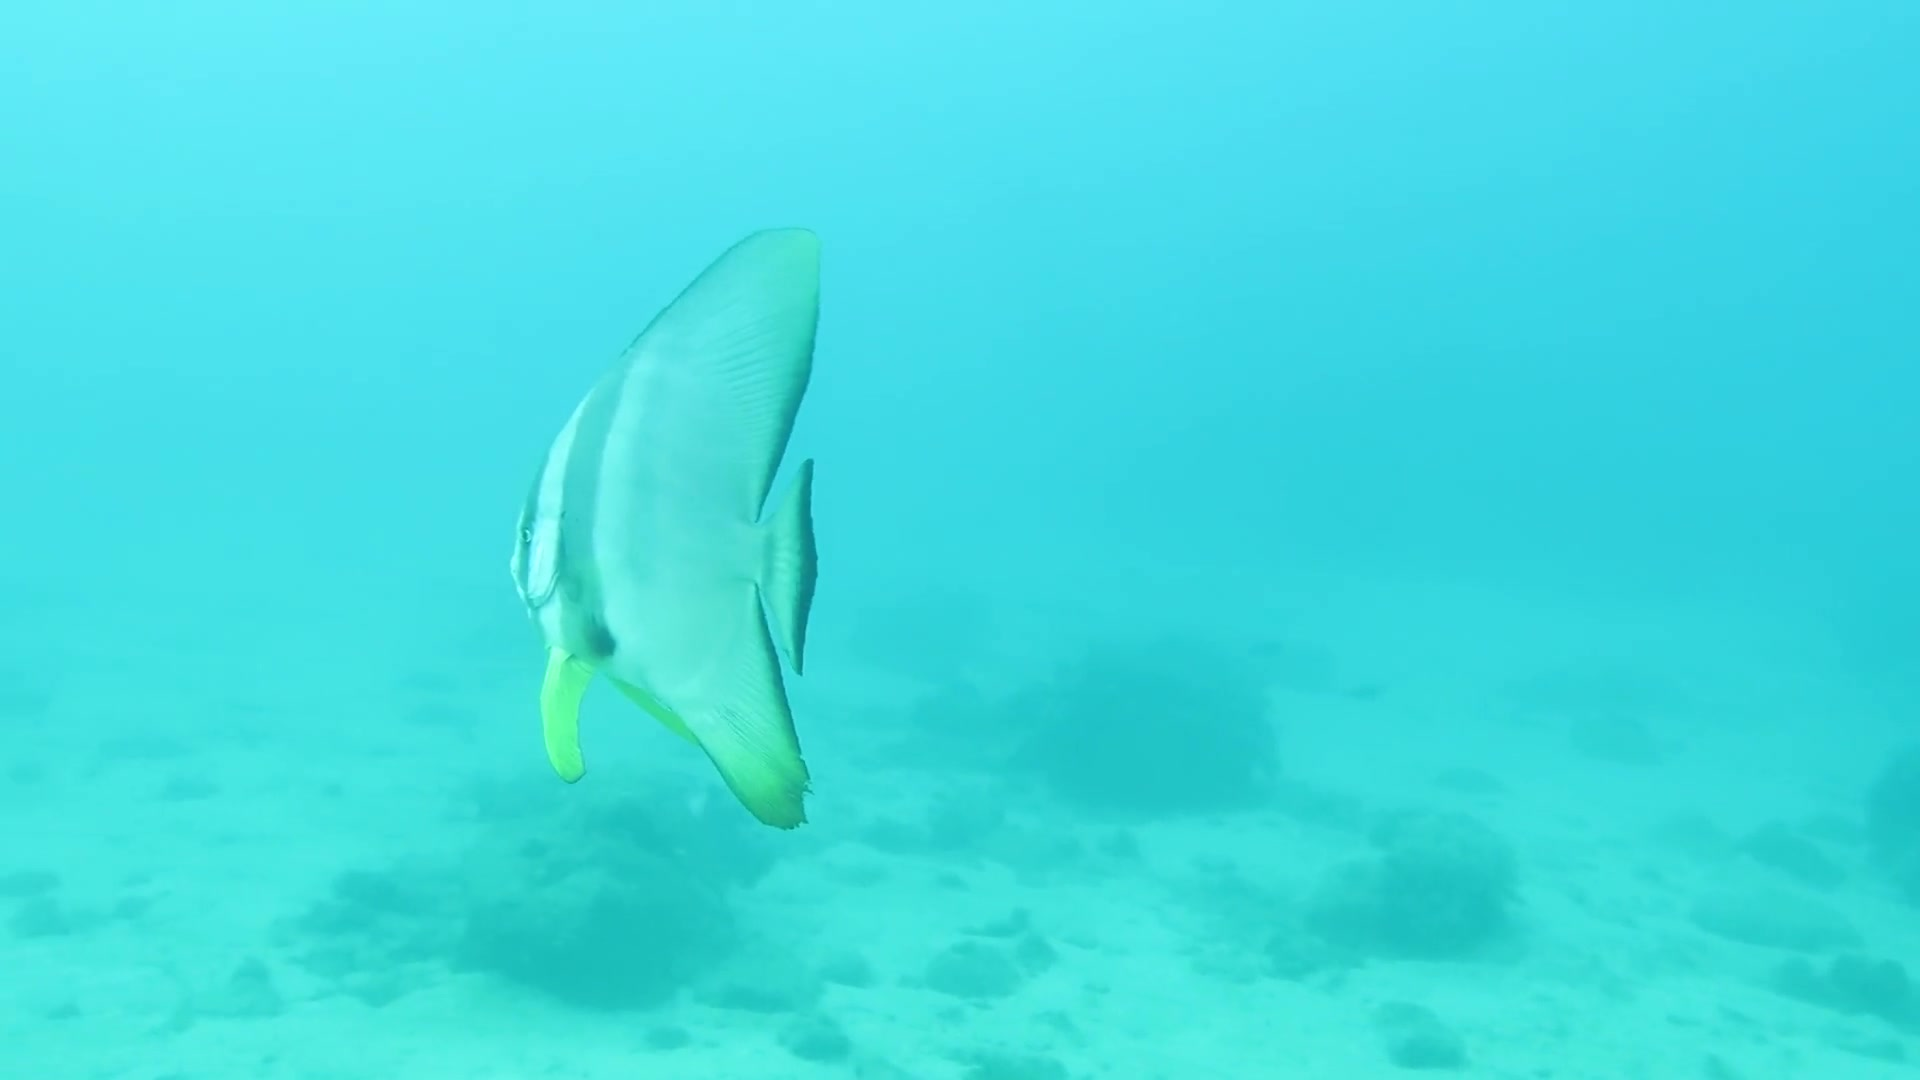Platax teira: (434, 146, 895, 872)
